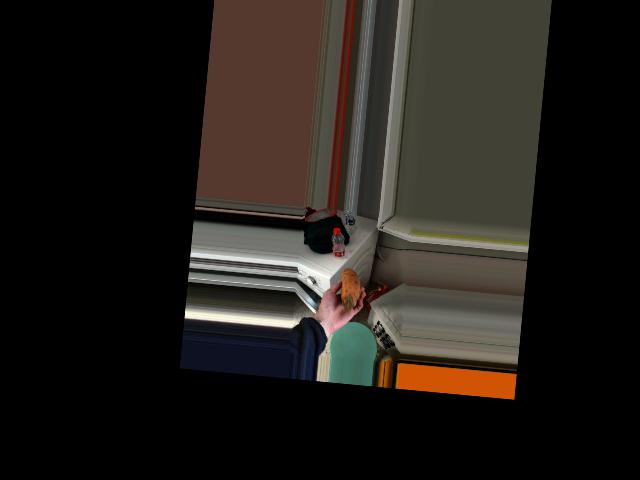sweet_potato: (339, 258, 361, 307)
